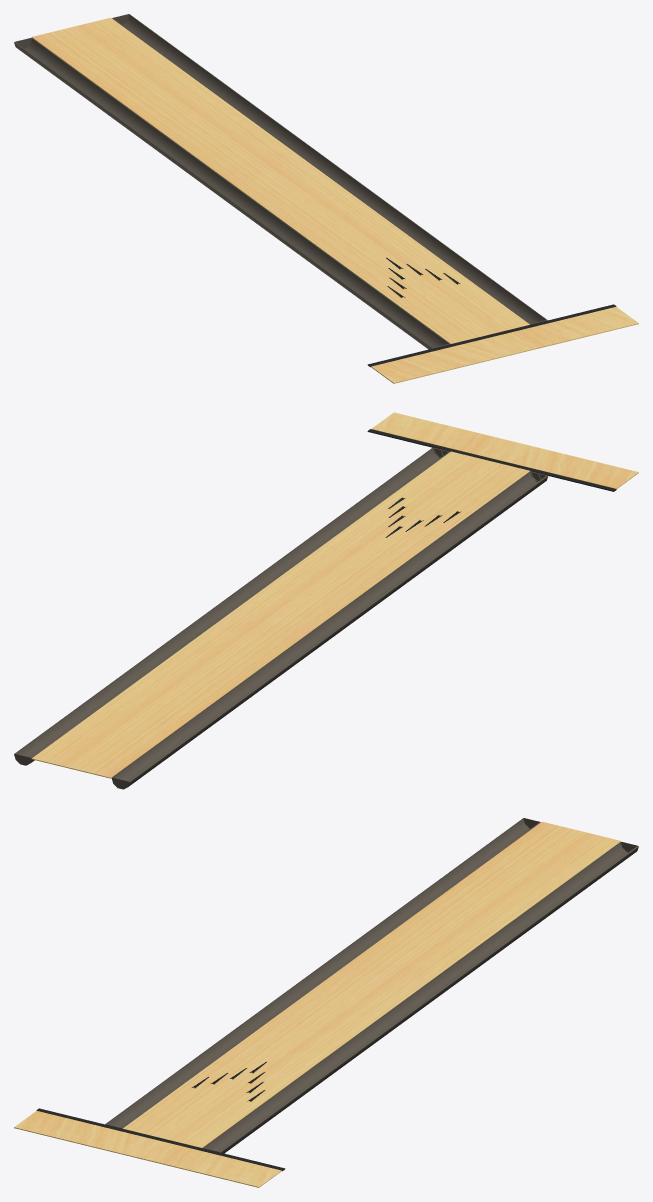
File: bowlingLane.fbx
3 views of the same model, one above another, from view 1: azimuth 30°, elevation 25°; view 2: azimuth 150°, elevation 25°; view 3: azimuth 330°, elevation 25° (orthographic).
Parts seen in each view (by area): view 1: Lane, gutterLeft, gutterRight, floorFront, floorFoul; view 2: Lane, gutterLeft, gutterRight, floorFront, floorFoul; view 3: Lane, gutterRight, gutterLeft, floorFront, floorFoul.
Part boxes in pixels (left/top/right/bottom): Lane: left=31, top=17, right=529, bottom=343; gutterLeft: left=14, top=38, right=450, bottom=349; gutterRight: left=112, top=14, right=547, bottom=324; floorFront: left=371, top=306, right=638, bottom=383; floorFoul: left=367, top=304, right=616, bottom=367; Lane: left=31, top=451, right=529, bottom=778; gutterLeft: left=111, top=471, right=548, bottom=789; gutterRight: left=14, top=447, right=449, bottom=765; floorFront: left=371, top=412, right=638, bottom=488; floorFoul: left=367, top=429, right=616, bottom=491; Lane: left=123, top=821, right=621, bottom=1147; gutterRight: left=202, top=842, right=638, bottom=1153; gutterLeft: left=105, top=818, right=540, bottom=1128; floorFront: left=14, top=1110, right=281, bottom=1187; floorFoul: left=36, top=1108, right=285, bottom=1171.
Size of the model in its own units: 622 by 22.51 by 1948.
3 materials, 2 textured.
